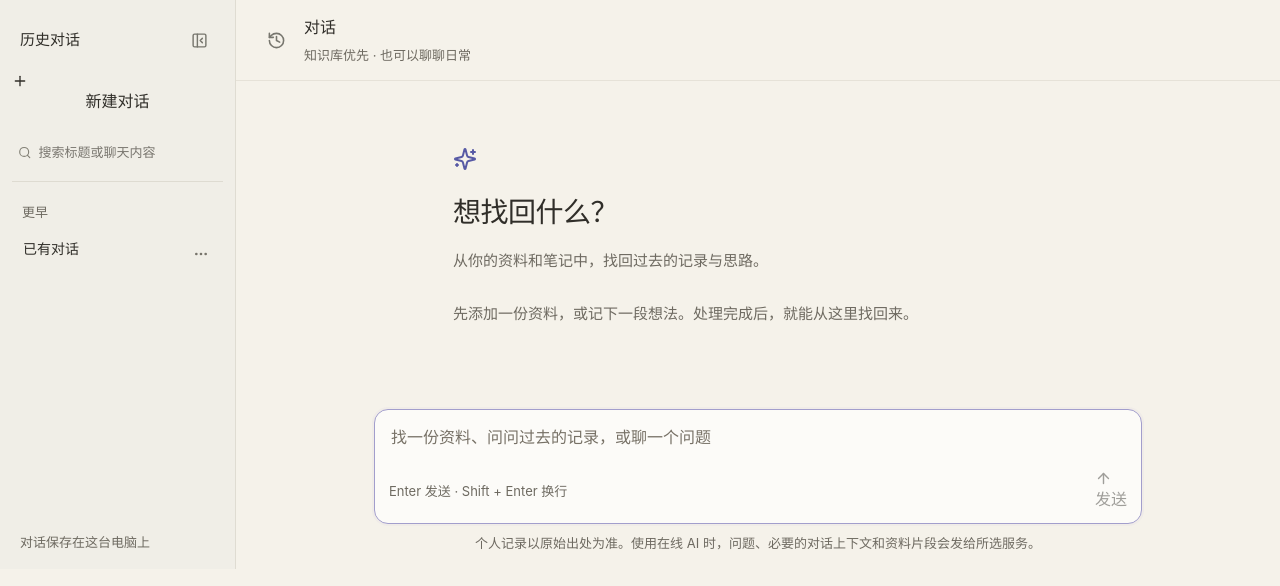
Test case: locks sending while an existing conversation is loading
Click the button "已有对话" at (118, 250), box [12, 228, 223, 271]
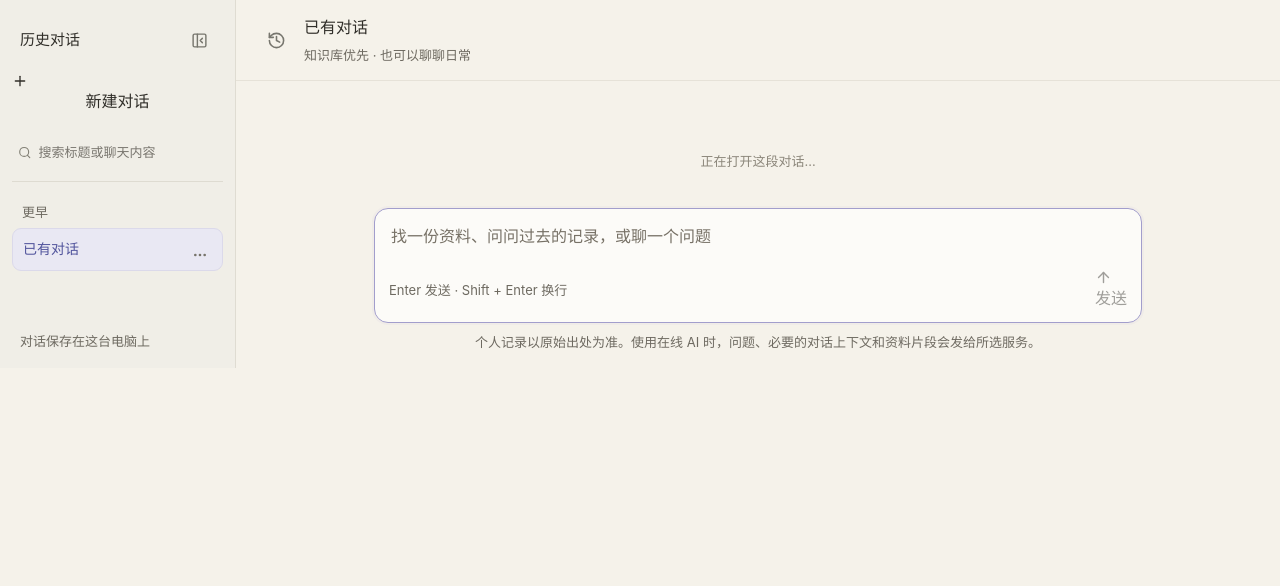
Type "不应提前发送" into the text box with placeholder "找一份资料、问问过去的记录，或聊一个问题" at (758, 245), box [389, 221, 1127, 269]
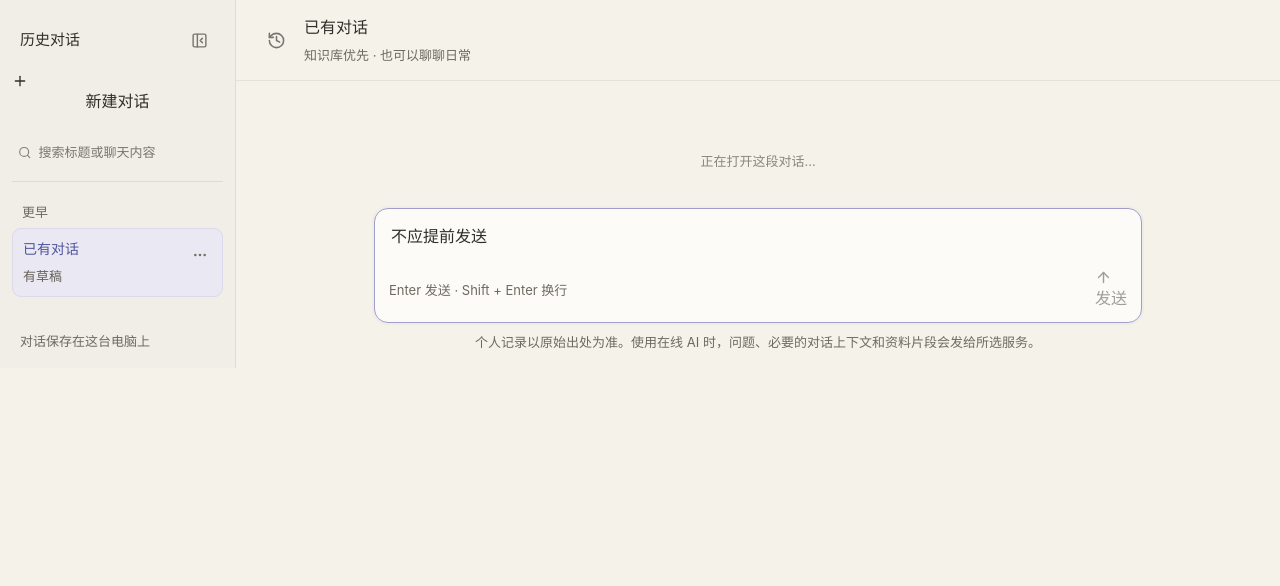
Press Enter in the text box with placeholder "找一份资料、问问过去的记录，或聊一个问题", box [389, 221, 1127, 269]
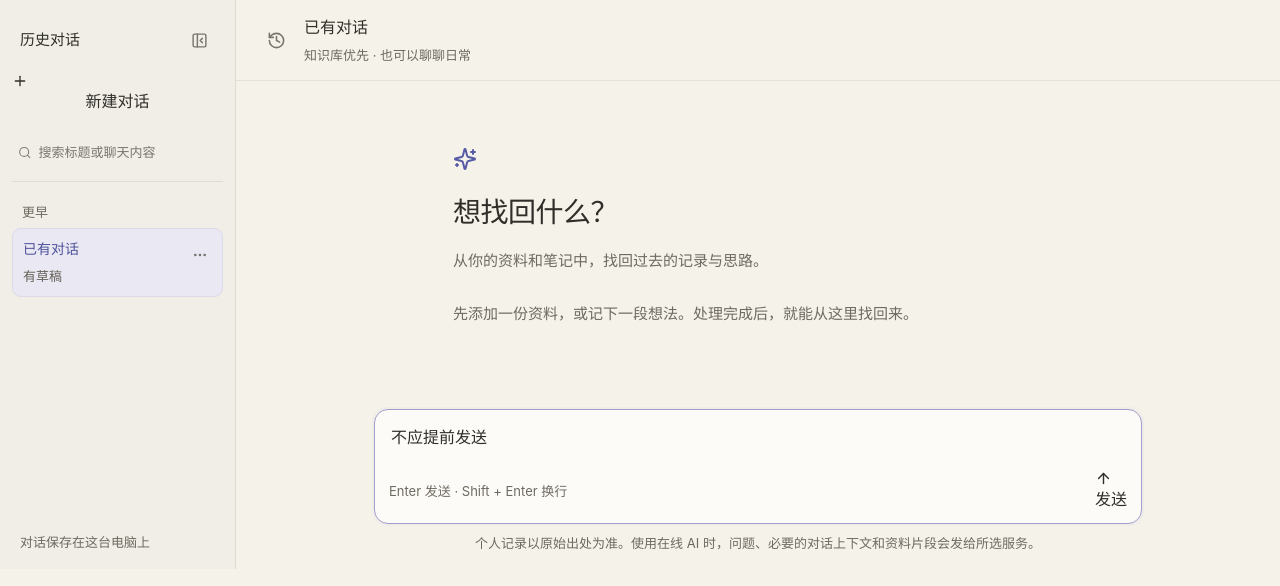
Result: the button "发送" is enabled at [1095, 470, 1127, 513]
